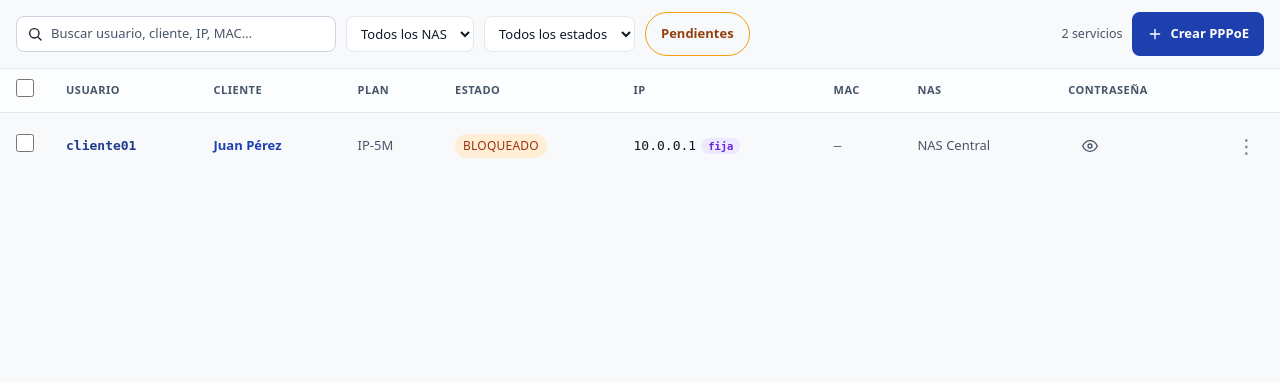
Test: PppoeManagementTab — F2: ramas de error faltantes › muestra error banner visible cuando handleReactivate falla (kebab)
The width and height of the screenshot is (1280, 382).
item con status 'blocked' → muestra "Reactivar"
Click the button named "Acciones" at (1246, 146), box [1229,132,1264,159]
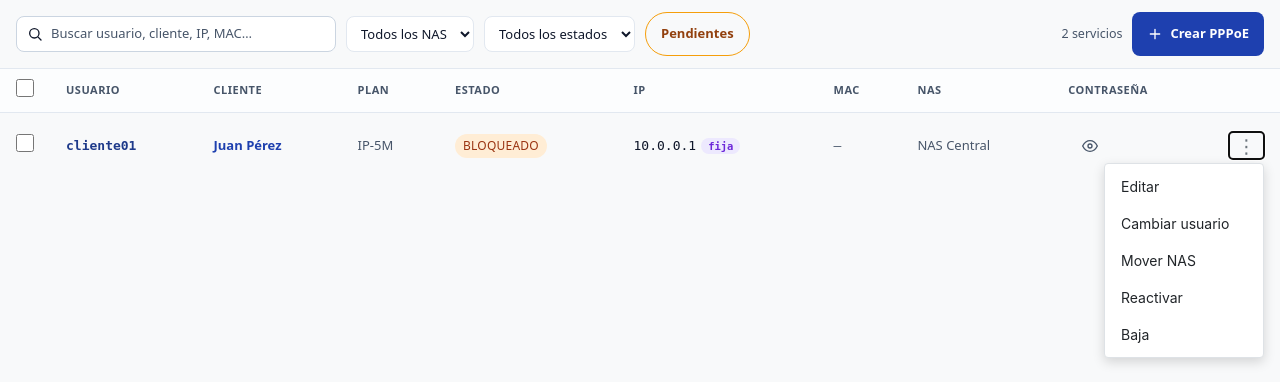
Click the menu item "Reactivar" at (1184, 298), box [1105,279,1263,316]
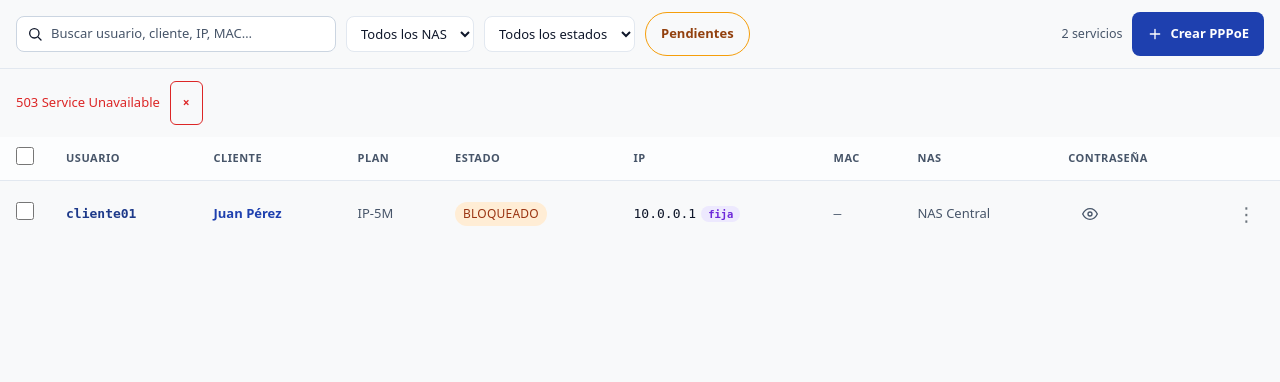
Now the message "503 Service Unavailable ×" is shown, box [16,81,203,125]
